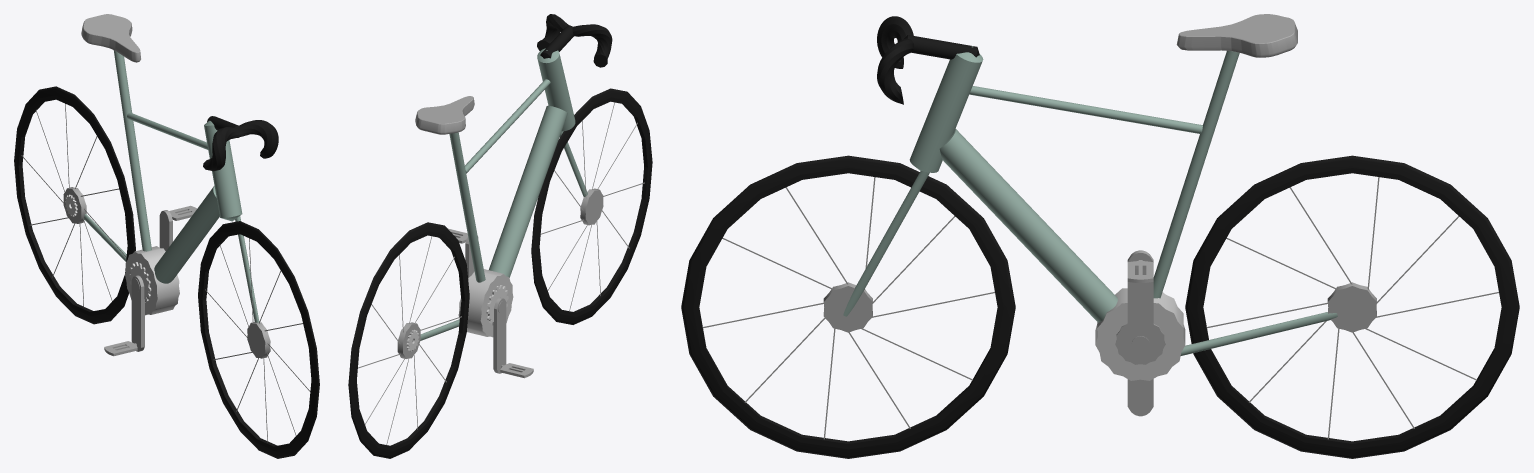
Rendered from Bike2.0.fbx.
3 views of the same model, side by side, from view 1: azimuth 30°, elevation 25°; view 2: azimuth 150°, elevation 25°; view 3: azimuth 270°, elevation 25° (orthographic). The views are drawn at different scales.
Visible parts, largest first — view 1: Bike6; view 2: Bike6; view 3: Bike6.
Boxes of the visible parts, x1,y1,x2,y2 form: Bike6: (14, 14, 319, 458); Bike6: (348, 14, 652, 458); Bike6: (681, 14, 1519, 458).
Bounding box in the file's own units: 5.52 × 18.43 × 32.4.
